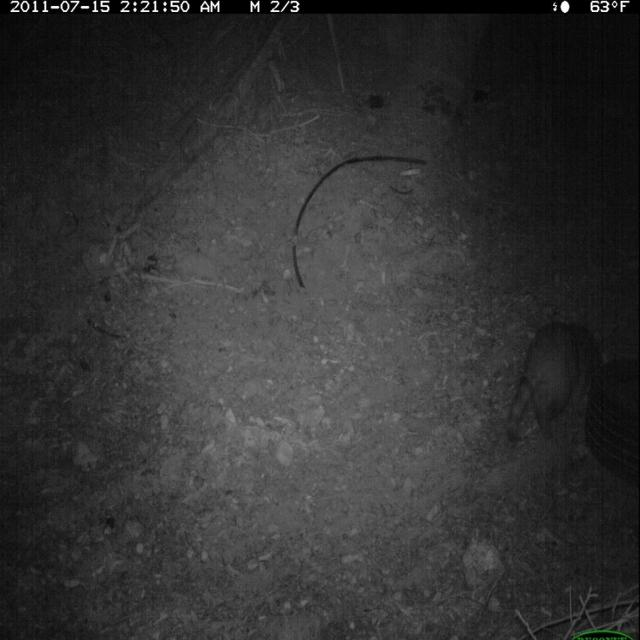raccoon: (509, 315, 612, 447)
